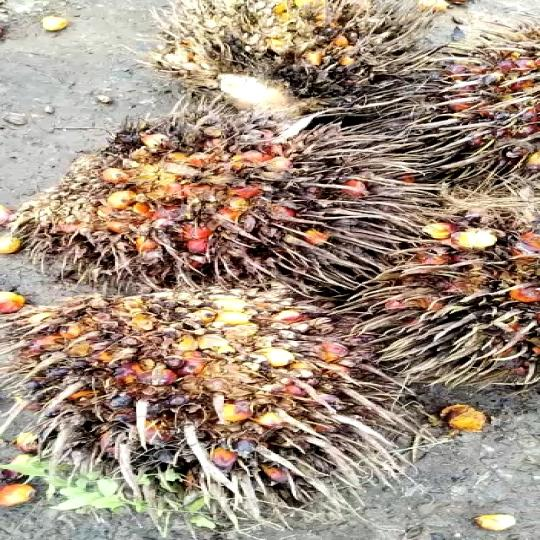terlalu masak: (2, 277, 426, 521), (17, 105, 420, 294), (146, 0, 479, 119)
